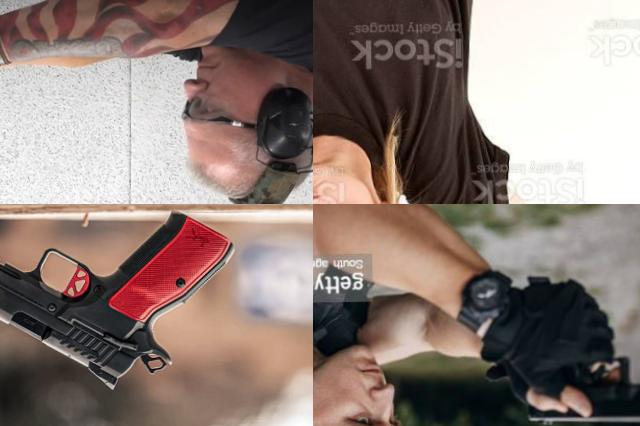handgun: (0, 208, 238, 394), (509, 268, 640, 426), (0, 15, 61, 111)
